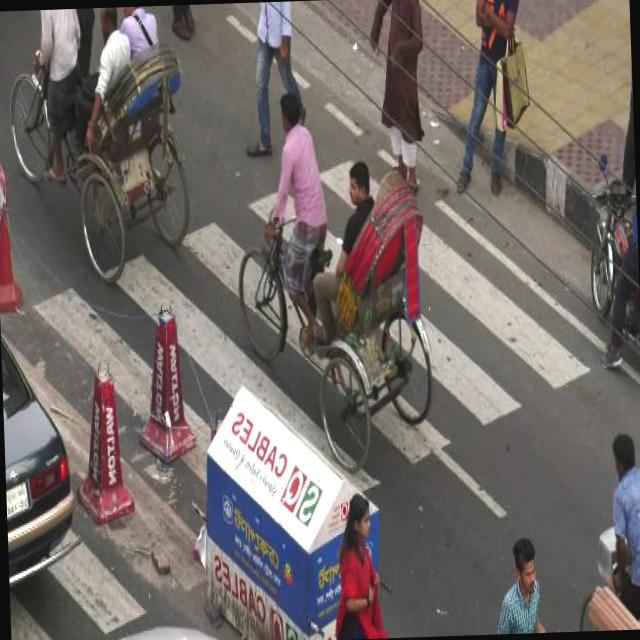car: (2, 322, 88, 590)
motorcycle: (226, 80, 441, 474), (4, 35, 201, 291), (579, 164, 640, 348)
